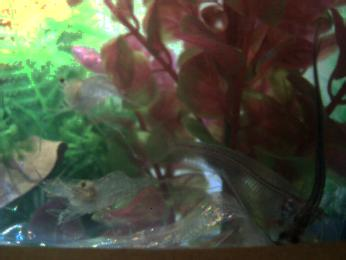glassfish: (148, 126, 311, 215), (294, 20, 335, 243)
siberian prawn: (47, 168, 177, 222), (52, 72, 132, 138)
